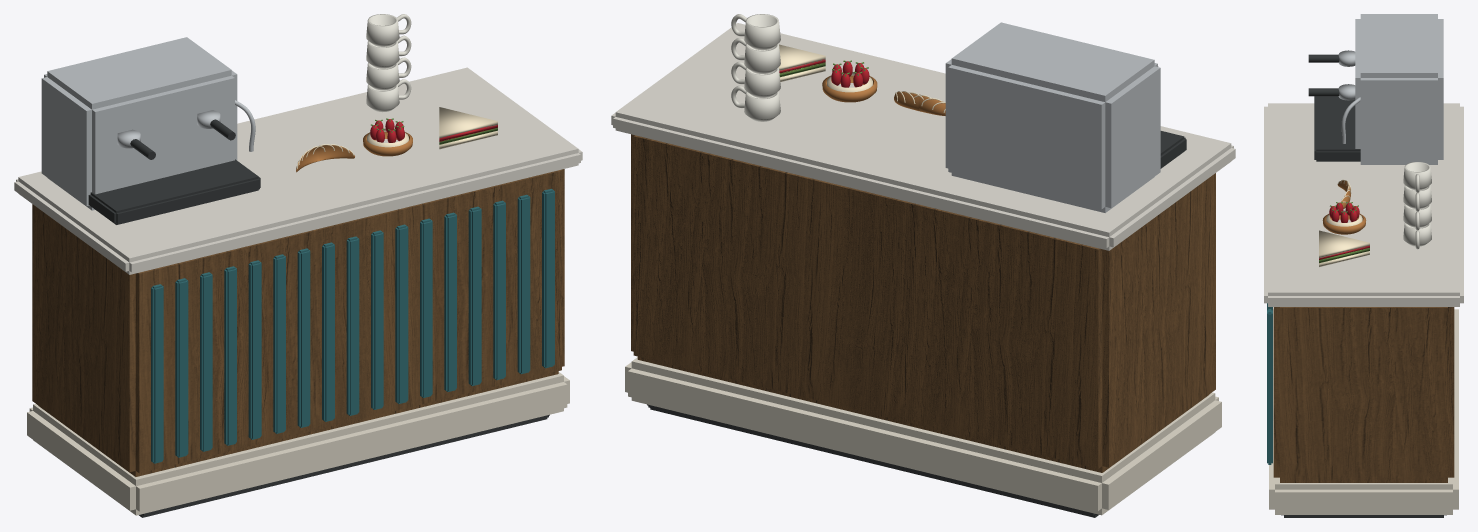
The model's file is collection_v29_cafe_0.glb.
3 views of the same model, side by side, from view 1: azimuth 30°, elevation 25°; view 2: azimuth 150°, elevation 25°; view 3: azimuth 270°, elevation 25° (orthographic). The views are drawn at different scales.
Visible parts, largest first — view 1: collection_v29_cafe_0_CC0_Oak_veneer, collection_v29_cafe_0_Honed_solid_surface, collection_v29_cafe_0_V29_petrol_enamel, collection_v29_cafe_0_Brushed_stainless.005, collection_v29_cafe_0_V29_ivory_lacquer, collection_v29_cafe_0_Anodised_graphite.012, collection_v29_cafe_0_Anodised_graphite, collection_v29_cafe_0_V24_cream.002, collection_v29_cafe_0_Glazed_ceramic_0.010, collection_v29_cafe_0_Glazed_ceramic_0.009, collection_v29_cafe_0_Glazed_ceramic_0.008, collection_v29_cafe_0_Glazed_ceramic_0.007 (+1 smaller); view 2: collection_v29_cafe_0_CC0_Oak_veneer, collection_v29_cafe_0_Honed_solid_surface, collection_v29_cafe_0_Brushed_stainless.005, collection_v29_cafe_0_V29_ivory_lacquer, collection_v29_cafe_0_Anodised_graphite, collection_v29_cafe_0_Glazed_ceramic_0.010, collection_v29_cafe_0_Glazed_ceramic_0.008, collection_v29_cafe_0_Glazed_ceramic_0.007, collection_v29_cafe_0_Glazed_ceramic_0.009, collection_v29_cafe_0_V24_cream.002, collection_v29_cafe_0_V24_golden_crust, collection_v29_cafe_0_V24_strawberry (+1 smaller); view 3: collection_v29_cafe_0_CC0_Oak_veneer, collection_v29_cafe_0_Honed_solid_surface, collection_v29_cafe_0_Brushed_stainless.005, collection_v29_cafe_0_V29_ivory_lacquer, collection_v29_cafe_0_Anodised_graphite.012, collection_v29_cafe_0_V24_cream.002, collection_v29_cafe_0_V29_petrol_enamel, collection_v29_cafe_0_Glazed_ceramic_0.010, collection_v29_cafe_0_Glazed_ceramic_0.009, collection_v29_cafe_0_Glazed_ceramic_0.008, collection_v29_cafe_0_Glazed_ceramic_0.007, collection_v29_cafe_0_Anodised_graphite (+2 smaller).
Part boxes in pixels (<box>): collection_v29_cafe_0_CC0_Oak_veneer: <box>32,169,564,476</box>; collection_v29_cafe_0_Honed_solid_surface: <box>14,67,582,274</box>; collection_v29_cafe_0_V29_petrol_enamel: <box>151,188,554,463</box>; collection_v29_cafe_0_Brushed_stainless.005: <box>41,37,255,210</box>; collection_v29_cafe_0_V29_ivory_lacquer: <box>27,372,569,515</box>; collection_v29_cafe_0_Anodised_graphite.012: <box>88,119,260,224</box>; collection_v29_cafe_0_Anodised_graphite: <box>139,414,549,517</box>; collection_v29_cafe_0_V24_cream.002: <box>439,107,497,149</box>; collection_v29_cafe_0_Glazed_ceramic_0.010: <box>366,14,411,46</box>; collection_v29_cafe_0_Glazed_ceramic_0.009: <box>366,35,411,68</box>; collection_v29_cafe_0_Glazed_ceramic_0.008: <box>366,57,411,90</box>; collection_v29_cafe_0_Glazed_ceramic_0.007: <box>366,79,411,112</box>; collection_v29_cafe_0_CC0_Oak_veneer: <box>631,134,1215,472</box>; collection_v29_cafe_0_Honed_solid_surface: <box>611,23,1235,250</box>; collection_v29_cafe_0_Brushed_stainless.005: <box>945,22,1160,212</box>; collection_v29_cafe_0_V29_ivory_lacquer: <box>625,357,1221,515</box>; collection_v29_cafe_0_Anodised_graphite: <box>647,404,1098,517</box>; collection_v29_cafe_0_Glazed_ceramic_0.010: <box>731,14,780,50</box>; collection_v29_cafe_0_Glazed_ceramic_0.008: <box>731,62,780,97</box>; collection_v29_cafe_0_Glazed_ceramic_0.007: <box>731,85,780,121</box>; collection_v29_cafe_0_Glazed_ceramic_0.009: <box>731,38,780,73</box>; collection_v29_cafe_0_V24_cream.002: <box>778,44,825,81</box>; collection_v29_cafe_0_V24_golden_crust: <box>894,91,945,115</box>; collection_v29_cafe_0_V24_strawberry: <box>831,61,869,87</box>; collection_v29_cafe_0_CC0_Oak_veneer: <box>1273,307,1454,482</box>; collection_v29_cafe_0_Honed_solid_surface: <box>1264,103,1463,306</box>; collection_v29_cafe_0_Brushed_stainless.005: <box>1338,14,1443,164</box>; collection_v29_cafe_0_V29_ivory_lacquer: <box>1269,309,1458,514</box>; collection_v29_cafe_0_Anodised_graphite.012: <box>1308,54,1360,161</box>; collection_v29_cafe_0_V24_cream.002: <box>1319,230,1369,266</box>; collection_v29_cafe_0_V29_petrol_enamel: <box>1267,303,1272,464</box>; collection_v29_cafe_0_Glazed_ceramic_0.010: <box>1403,162,1431,192</box>; collection_v29_cafe_0_Glazed_ceramic_0.009: <box>1403,185,1431,211</box>; collection_v29_cafe_0_Glazed_ceramic_0.008: <box>1403,204,1431,230</box>; collection_v29_cafe_0_Glazed_ceramic_0.007: <box>1403,223,1431,249</box>; collection_v29_cafe_0_Anodised_graphite: <box>1281,515,1446,517</box>.
Bounding box in the file's own units: 1.87 × 1.5 × 0.82.
20 materials, 1 textured.
